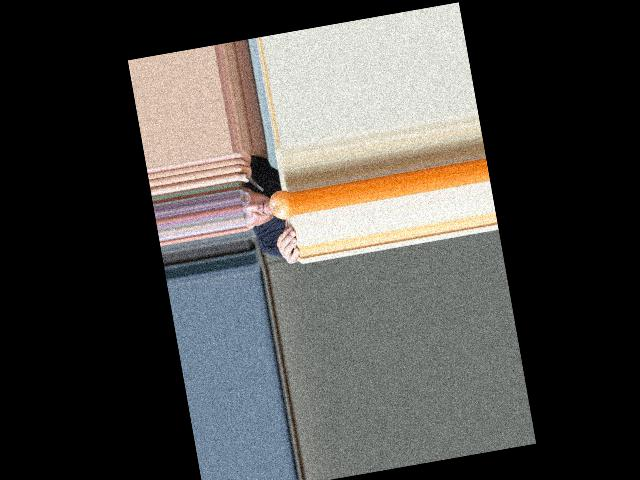onion: (267, 188, 294, 222)
